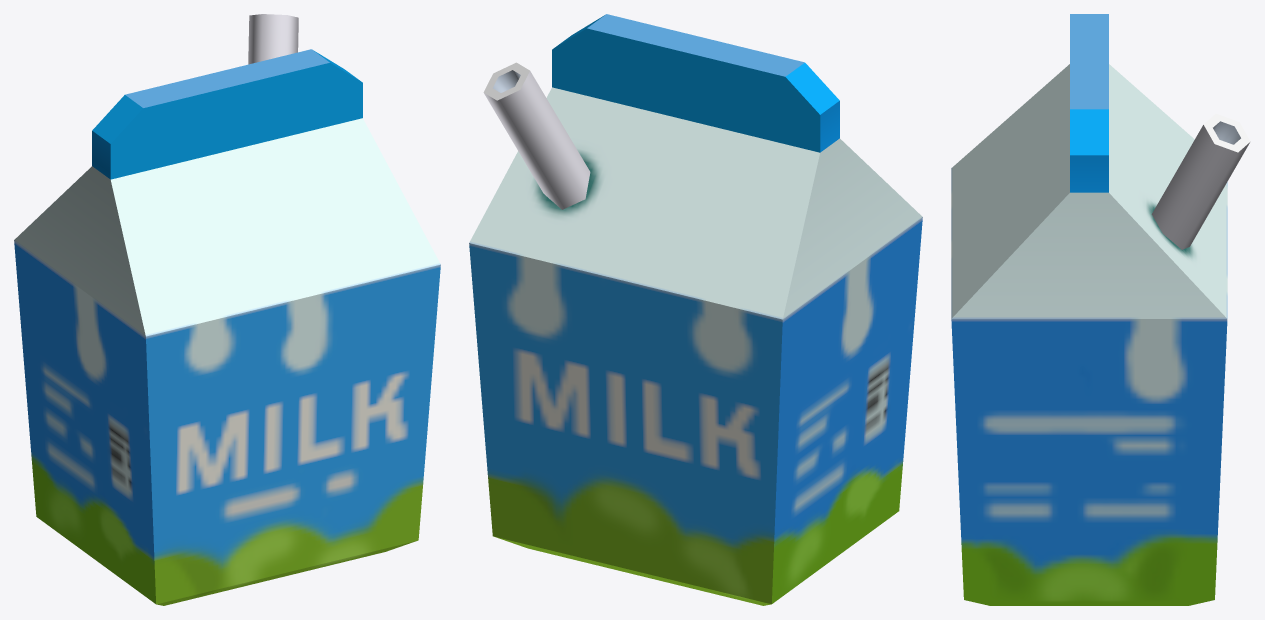
File: Milk.fbx
3 views of the same model, side by side, from view 1: azimuth 30°, elevation 25°; view 2: azimuth 150°, elevation 25°; view 3: azimuth 270°, elevation 25° (orthographic). The views are drawn at different scales.
Parts seen in each view (by area): view 1: Milk; view 2: Milk; view 3: Milk.
Part boxes in pixels (box(x1,y1,x2,y2)): Milk: box(14, 14, 440, 605); Milk: box(469, 14, 922, 605); Milk: box(951, 14, 1250, 605).
Size of the model in its own units: 2.6 by 3.91 by 2.18.
